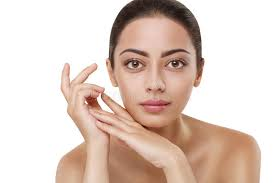indian_female: (104, 1, 206, 131)
